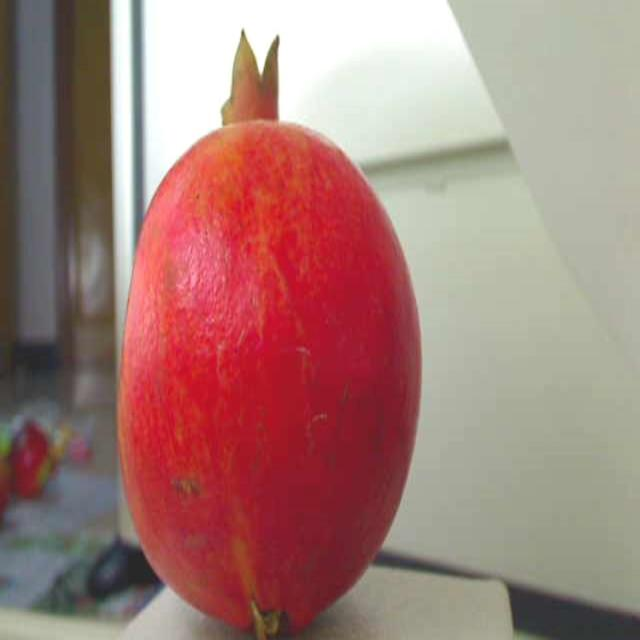pomegranate: (110, 29, 433, 640)
